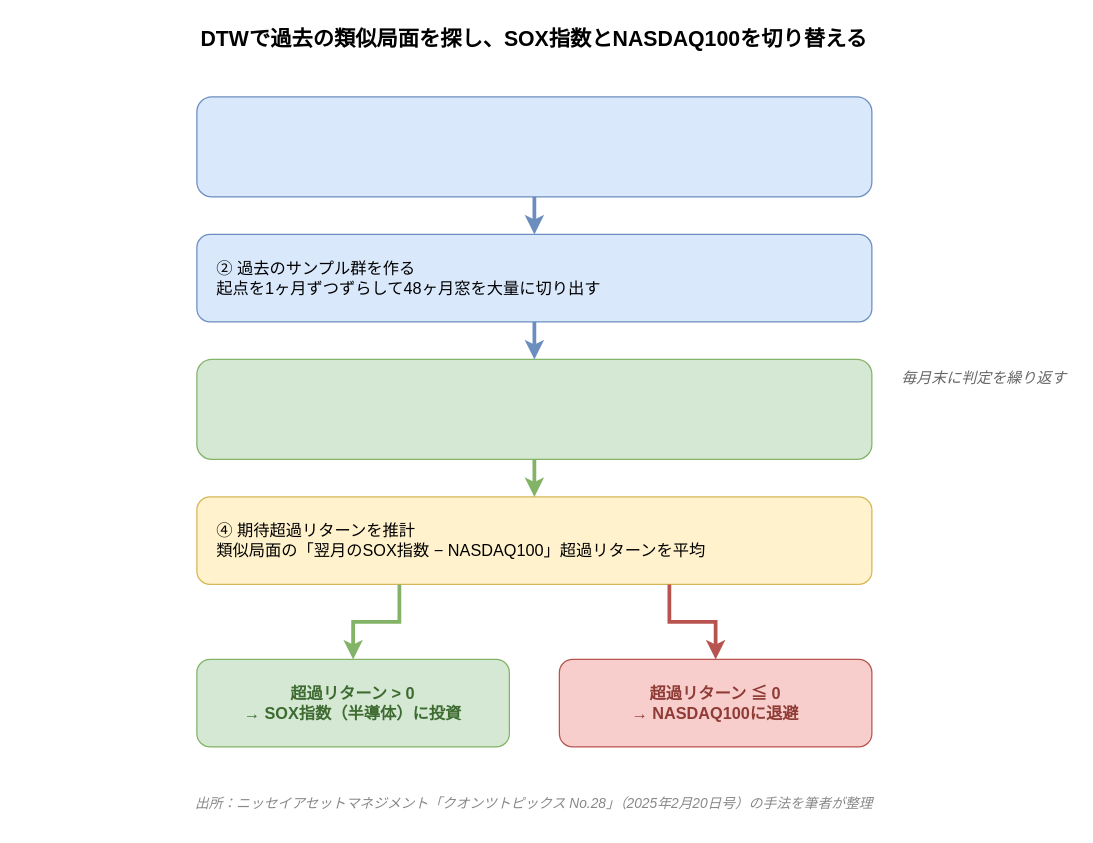
Image size: 1093x843. Some labels were removed from this diagram. The centre of each missing label's shape, as x and y in pixels:
"① 現在の局面を切り出す 半導体出荷額（前年同月比）の直近48ヶ月 ※ 発表ラグを考慮し、投資時点で入手可能な値のみ使う" belongs at point (534, 146).
"③ DTW距離で類似度を測る 位相のズレを吸収して波形の似た系列を高く評価 距離が小さい上位10％を「類似局面」として採用" belongs at point (534, 408).
